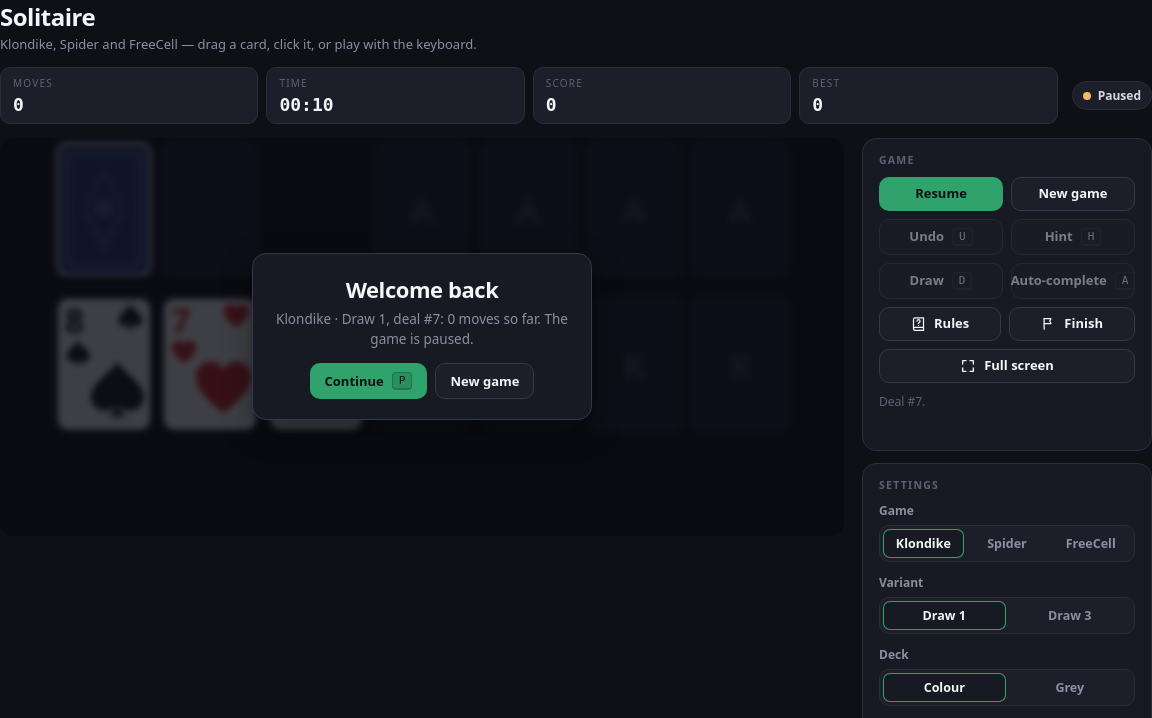
Scenario: Solitaire i18n › switching to Hungarian mid-game keeps the table, moves and clock
Press p
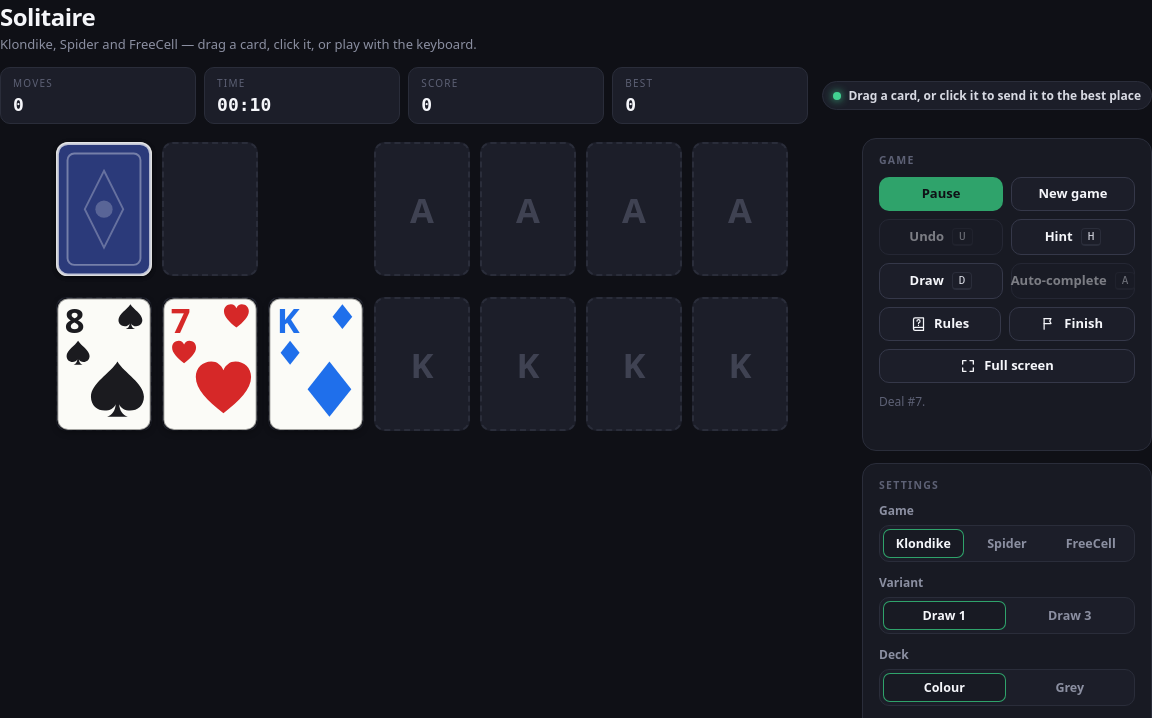
Press the mouse on the element showing "7" at (210, 364), box [162,297,258,432]
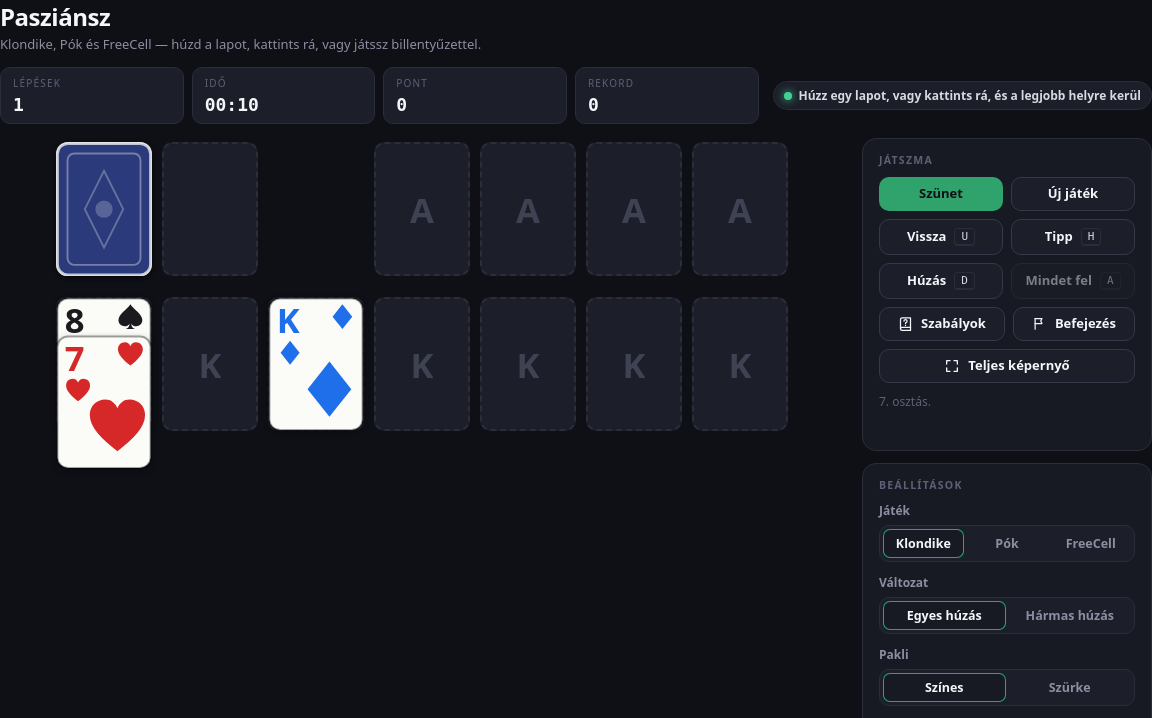
Now the heading "Pasziánsz" is shown, box [0,0,110,33]
